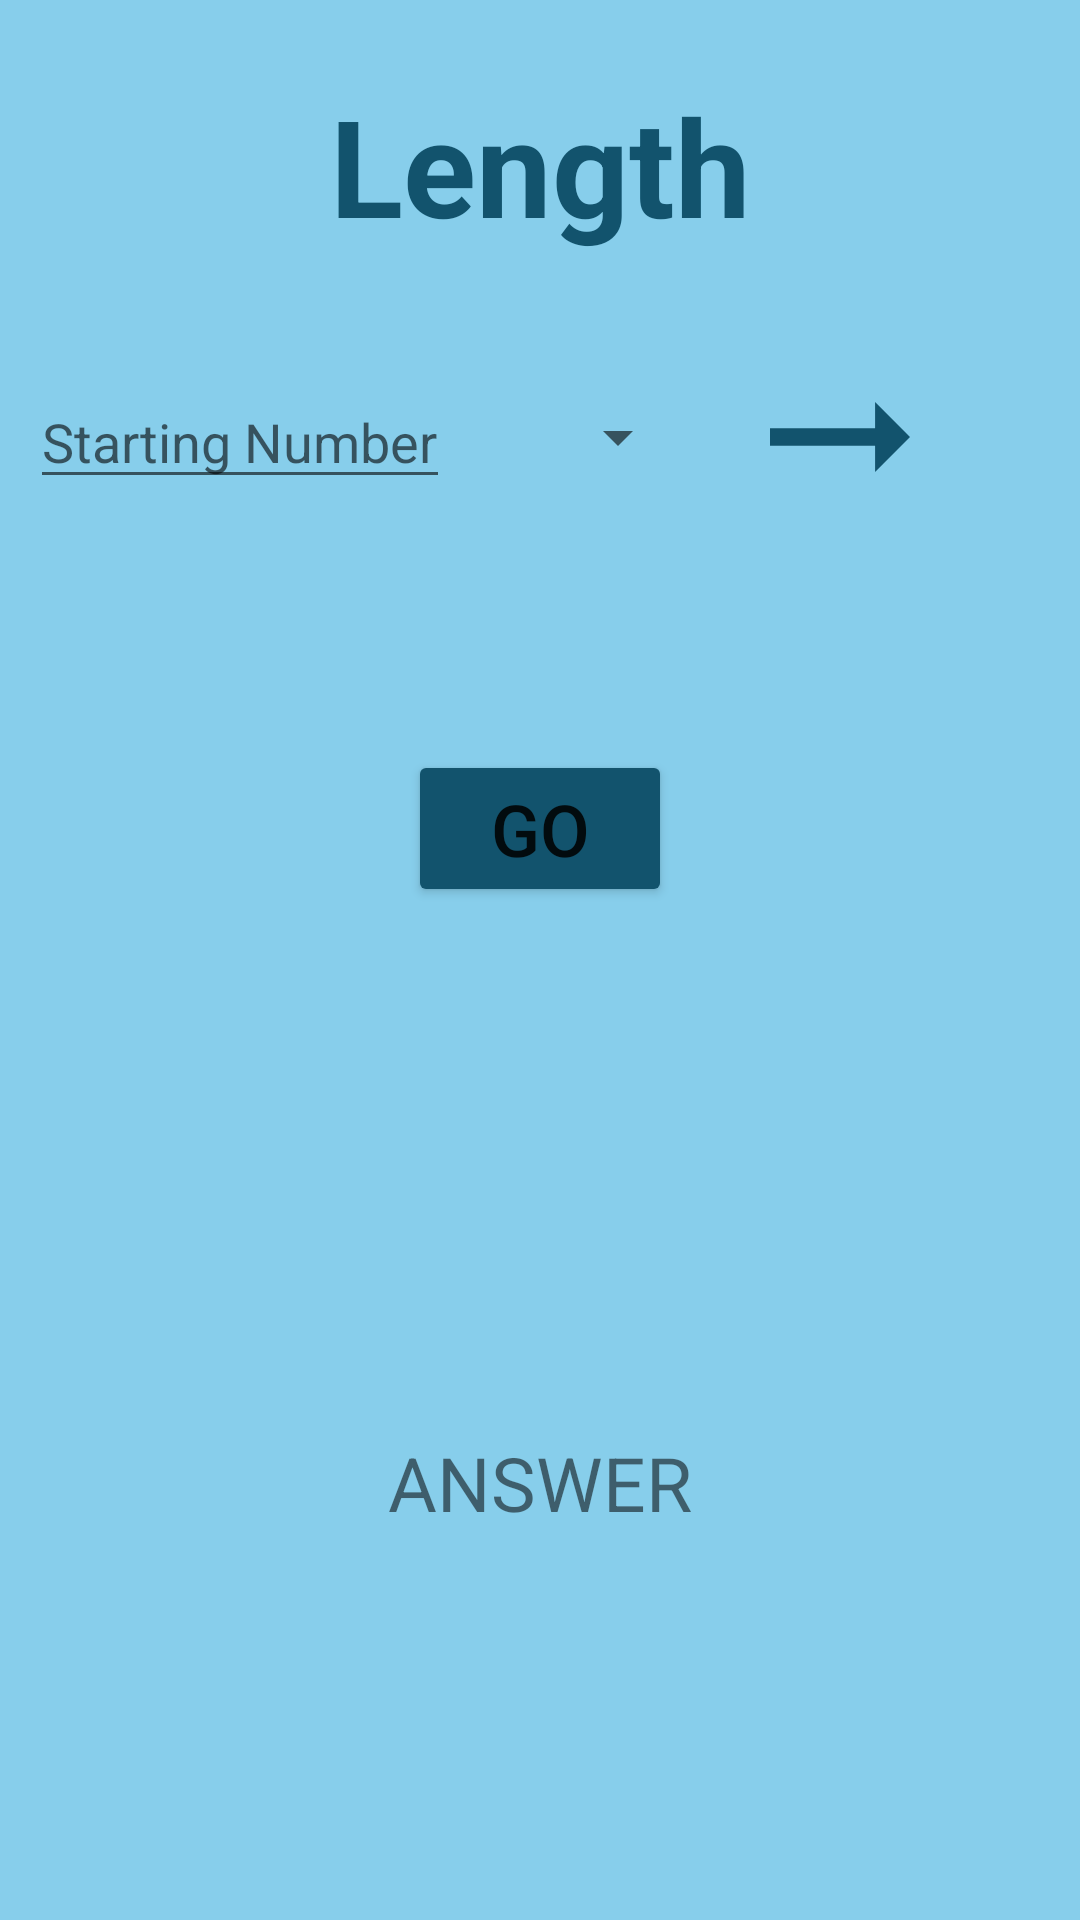

Named icons in this screenshot (1080*1920) and their centers, (x=x, y=y):
arrow: (x=840, y=437)
